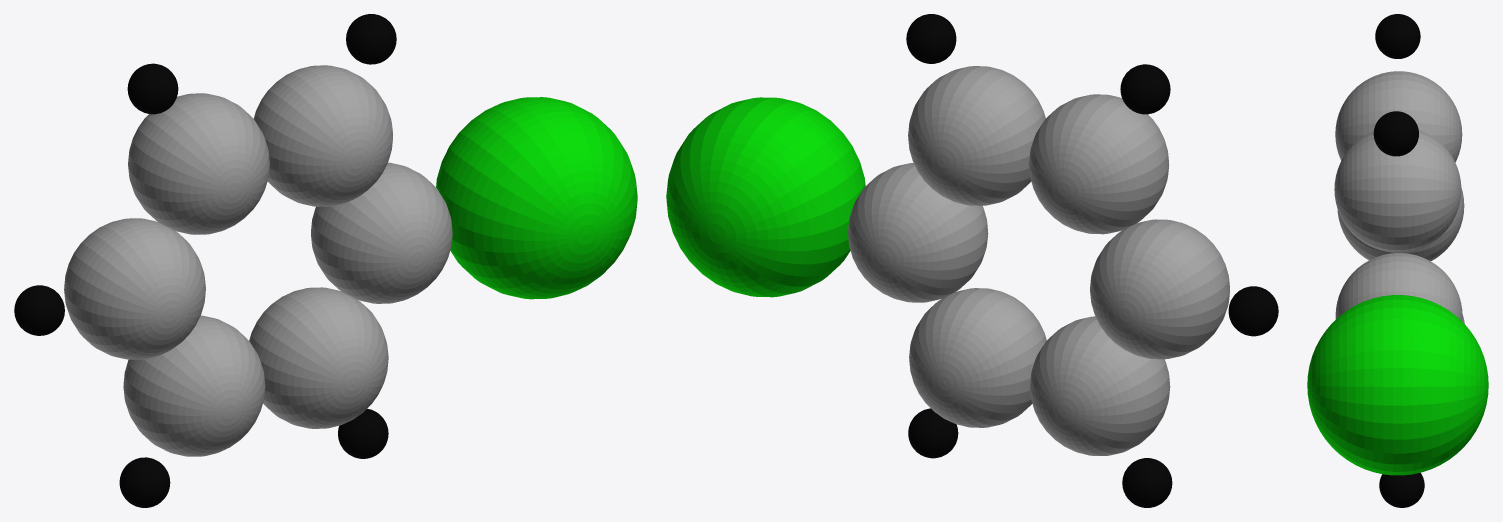
File: Chlorobenzene.glb
3 renders of one model, left to right at view 1: azimuth 30°, elevation 25°; view 2: azimuth 150°, elevation 25°; view 3: azimuth 270°, elevation 25°, orthographic. The views are drawn at different scales.
Visible parts, largest first — view 1: world; view 2: world; view 3: world.
Boxes of the visible parts, x1,y1,x2,y2 form: world: (14, 14, 637, 507); world: (666, 14, 1278, 507); world: (1307, 14, 1488, 507).
Bounding box in the file's own units: 6.88 × 4.83 × 2.
